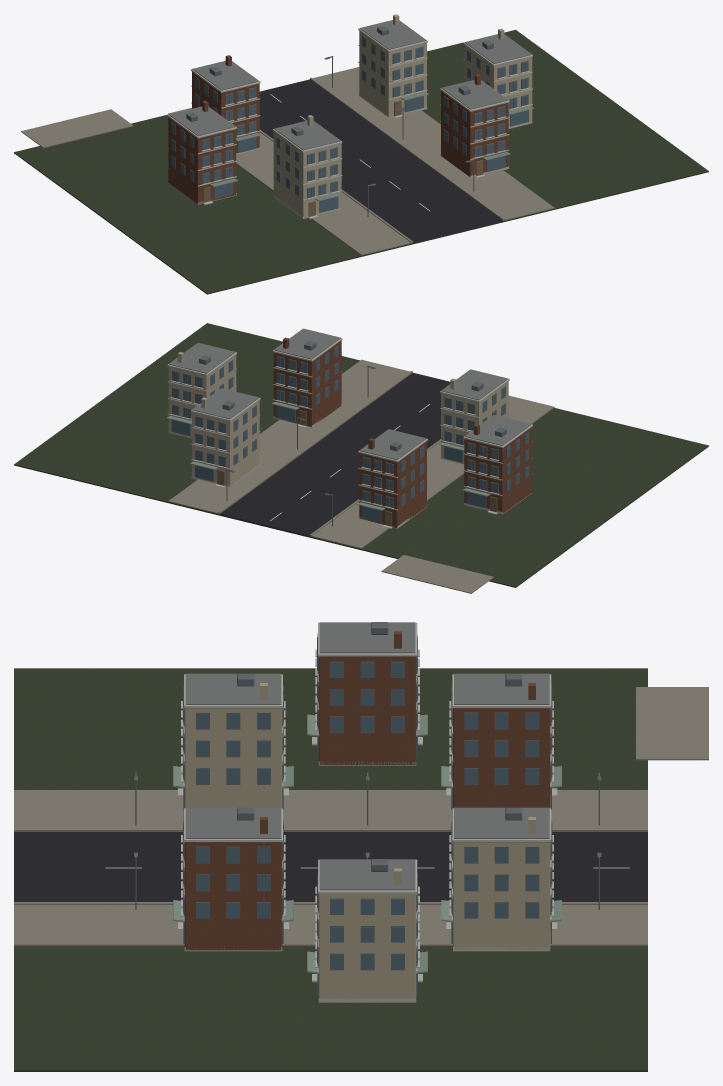
File: street-pilot.glb
3 renders of one model, top to bottom at view 1: azimuth 30°, elevation 25°; view 2: azimuth 150°, elevation 25°; view 3: azimuth 270°, elevation 25°, orthographic. The views are drawn at different scales.
Visible parts, largest first — view 1: UrbanPilotStatic; view 2: UrbanPilotStatic; view 3: UrbanPilotStatic.
Part boxes in pixels (x1,y1,x2,y2): UrbanPilotStatic: [14, 14, 708, 294]; UrbanPilotStatic: [14, 323, 708, 593]; UrbanPilotStatic: [14, 622, 708, 1071].
Size of the model in its own units: 78 by 11.7 by 57.
Materials: 13 (5 with a texture image).
